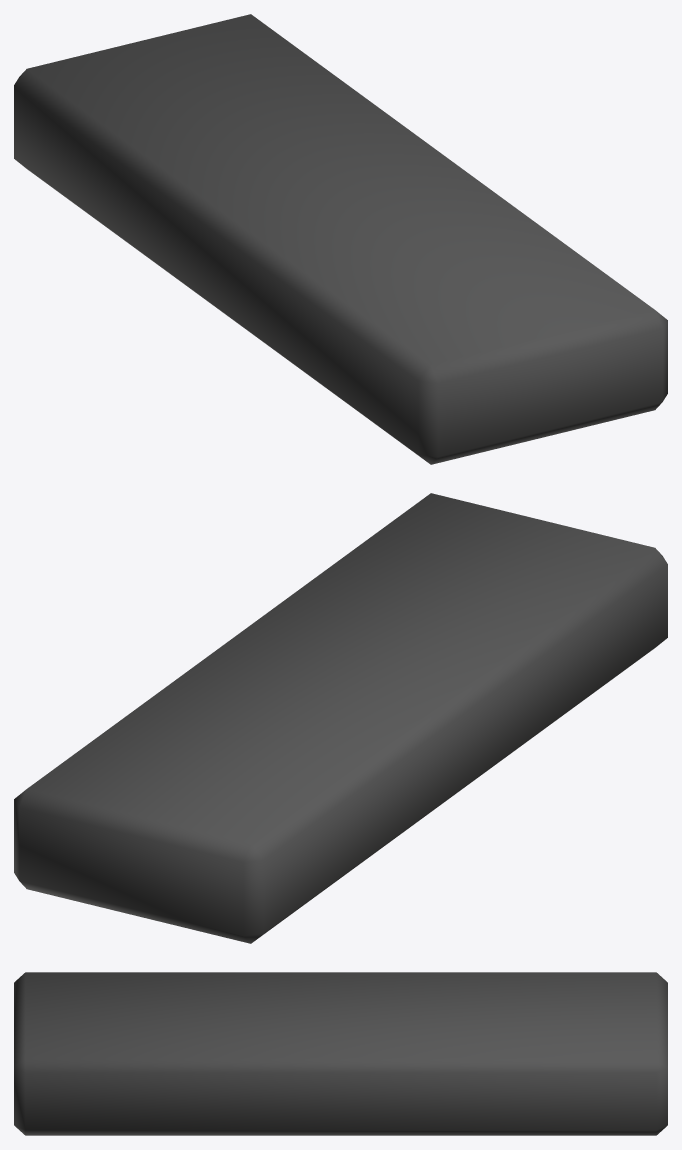
Rendered from Podest_3_2.glb.
The picture shows the model from 3 angles, top to bottom: view 1: azimuth 30°, elevation 25°; view 2: azimuth 150°, elevation 25°; view 3: azimuth 270°, elevation 25°; orthographic projection. The views are drawn at different scales.
Parts seen in each view (by area): view 1: Podest_3_2; view 2: Podest_3_2; view 3: Podest_3_2.
Boxes of the visible parts, x1=… form: Podest_3_2: x1=14, y1=14, x2=667, y2=464; Podest_3_2: x1=14, y1=493, x2=667, y2=943; Podest_3_2: x1=14, y1=972, x2=667, y2=1135.
Bounding box in the file's own units: 0.2487 × 0.0953 × 0.7226.
Materials: 1 (1 with a texture image).
